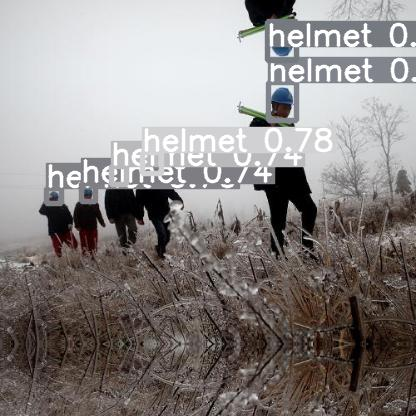helmet: (267, 21, 296, 60), (268, 82, 296, 120), (142, 152, 161, 173), (111, 166, 126, 184), (81, 183, 95, 201), (46, 188, 61, 203)
